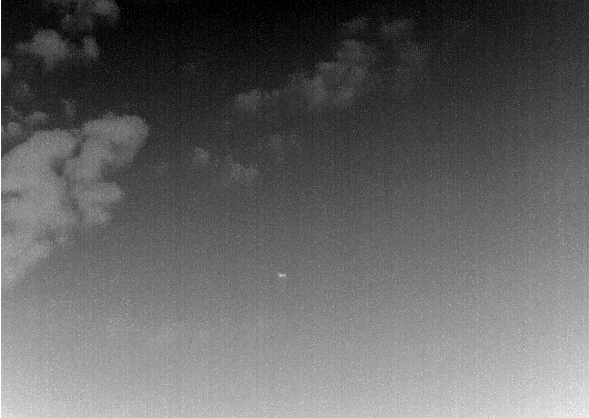dim target: (277, 272, 287, 278)
